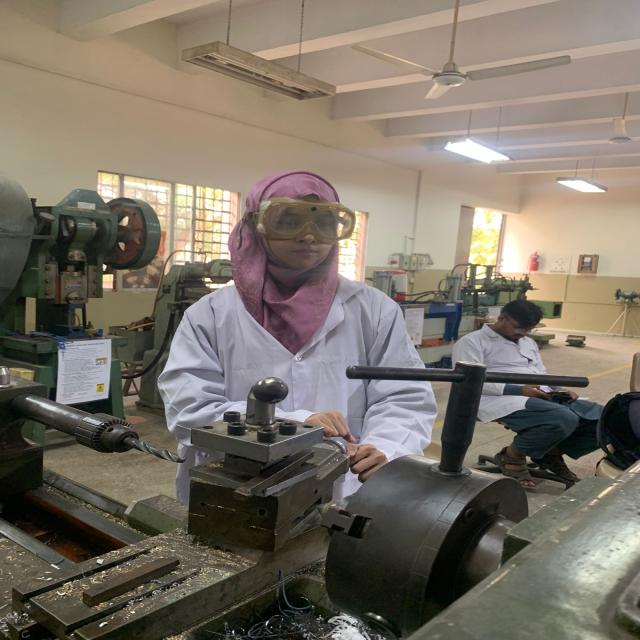googles: (258, 197, 358, 240)
labcoat: (152, 270, 441, 511), (449, 320, 554, 425)
